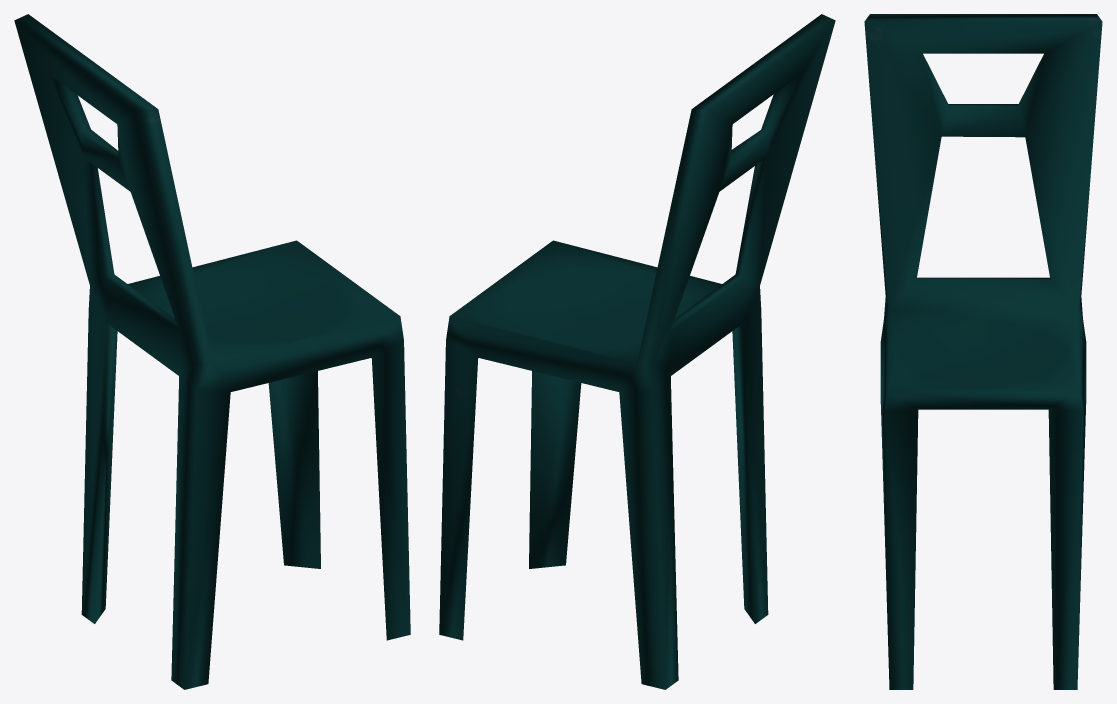
File: chair 2.fbx
3 renders of one model, left to right at view 1: azimuth 30°, elevation 25°; view 2: azimuth 150°, elevation 25°; view 3: azimuth 270°, elevation 25°, orthographic. The views are drawn at different scales.
Visible parts, largest first — view 1: defaultMaterial.001; view 2: defaultMaterial.001; view 3: defaultMaterial.001.
Part boxes in pixels (x1,y1,x2,y2): defaultMaterial.001: [14, 14, 410, 689]; defaultMaterial.001: [439, 14, 835, 689]; defaultMaterial.001: [864, 14, 1102, 689].
Bounding box in the file's own units: 142 × 288 × 113.
